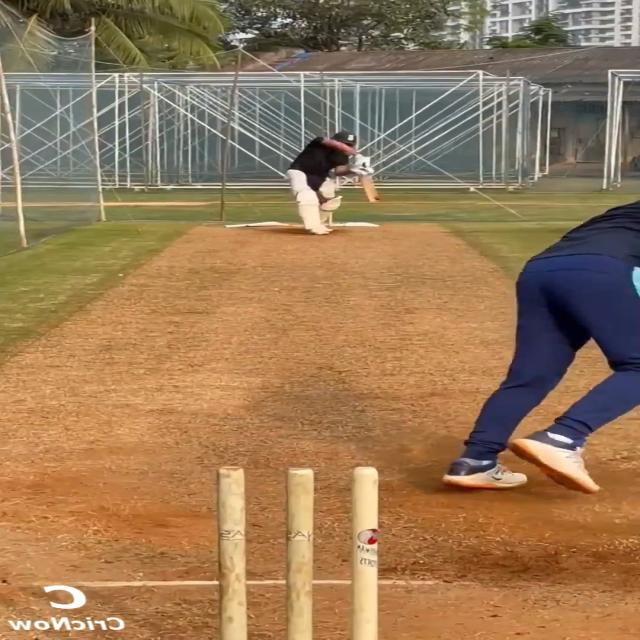stump: (219, 467, 381, 640)
